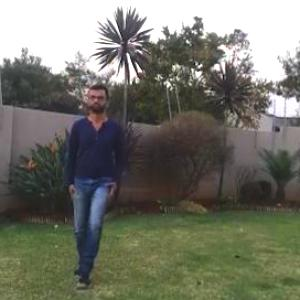follow: (55, 75, 127, 291)
